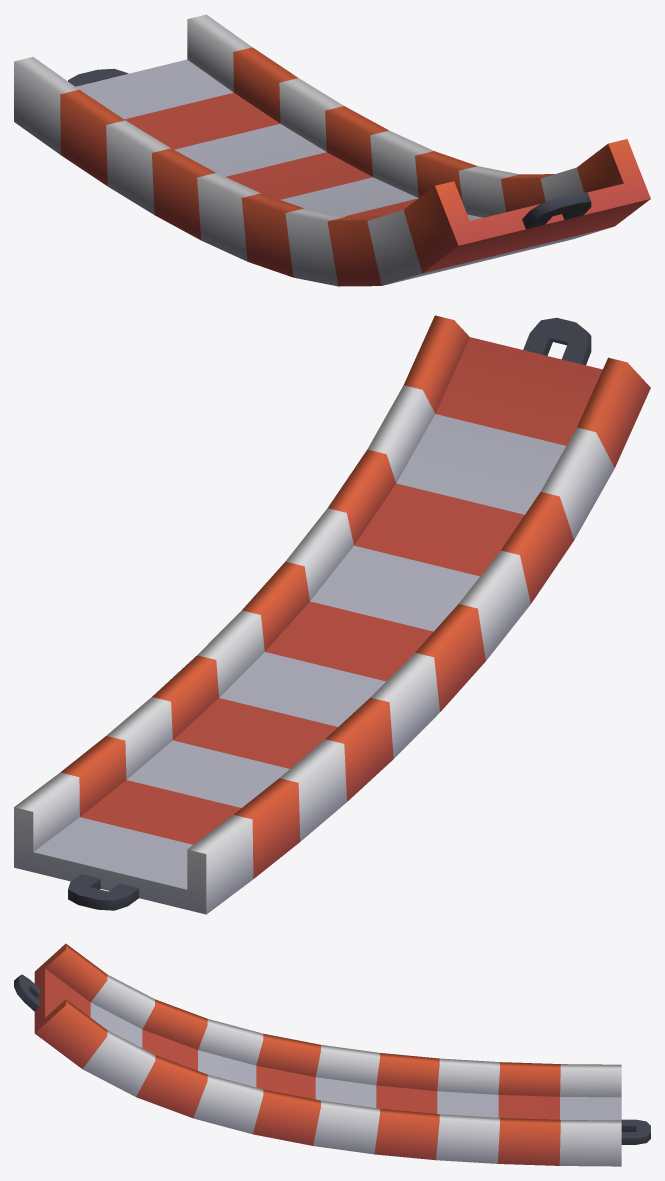
The model's file is track-striped-narrow-straight-hill-beginning.glb.
The picture shows the model from 3 angles, top to bottom: view 1: azimuth 30°, elevation 25°; view 2: azimuth 150°, elevation 25°; view 3: azimuth 270°, elevation 25°; orthographic projection. The views are drawn at different scales.
Visible parts, largest first — view 1: track-striped-narrow-straight-hill-beginning; view 2: track-striped-narrow-straight-hill-beginning; view 3: track-striped-narrow-straight-hill-beginning.
Boxes of the visible parts, x1,y1,x2,y2 form: track-striped-narrow-straight-hill-beginning: [14, 14, 650, 286]; track-striped-narrow-straight-hill-beginning: [14, 315, 650, 914]; track-striped-narrow-straight-hill-beginning: [14, 943, 650, 1166].
Size of the model in its own units: 1 by 1.21 by 4.34.
